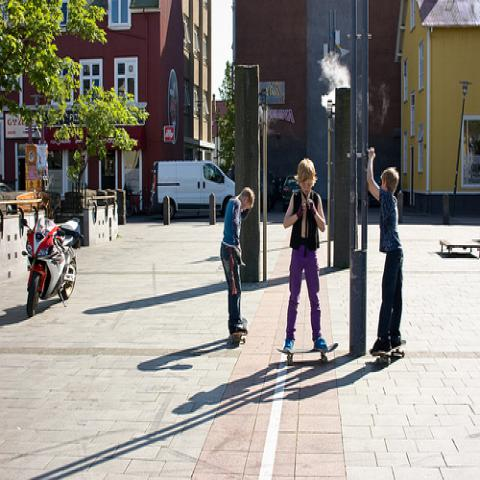car: (0, 182, 40, 232)
motorcycle: (18, 204, 83, 318)
truck: (157, 160, 235, 216)
